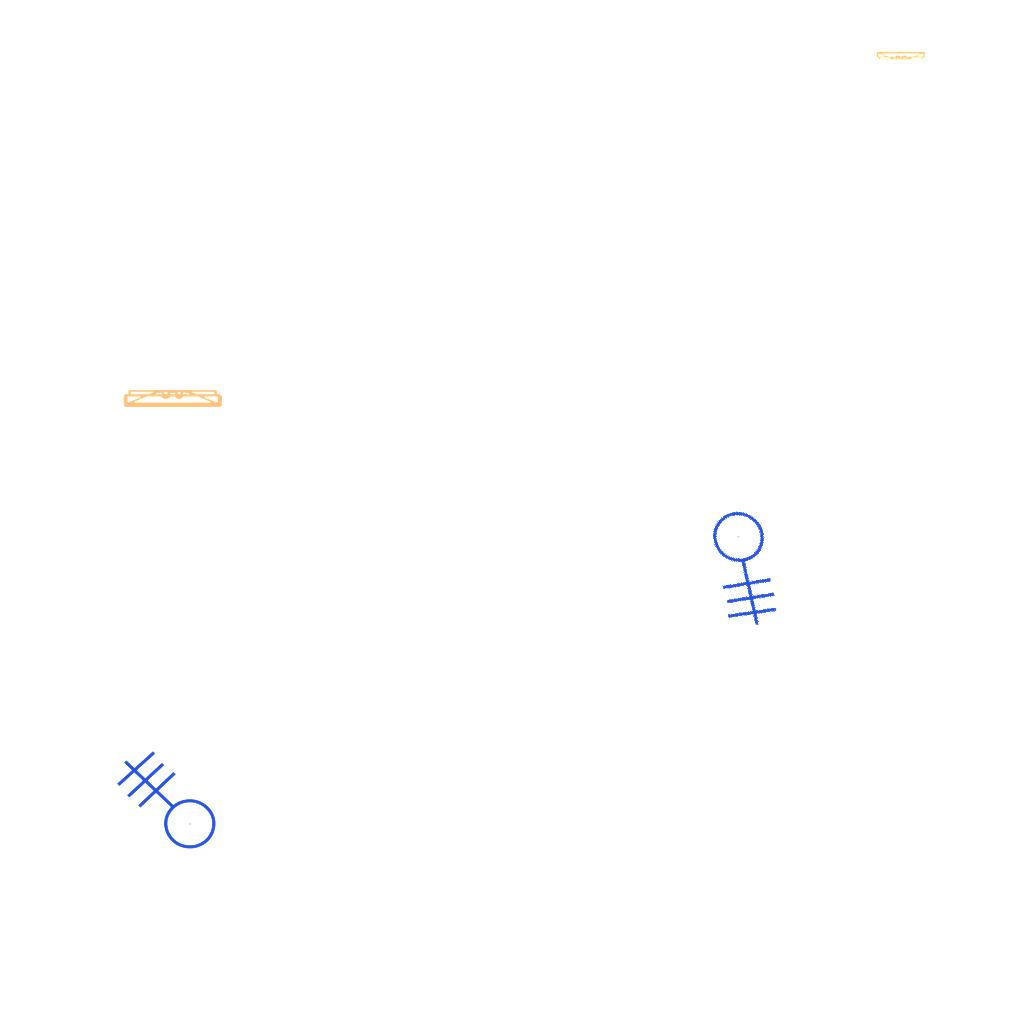Elektroanschluss_allgemein_400V_Geraeteanschlussdose_400V: (674, 486, 834, 647), (104, 750, 217, 866)
Sicherheitsleuchte_Wandeinbau: (118, 385, 277, 410), (849, 50, 928, 62)
